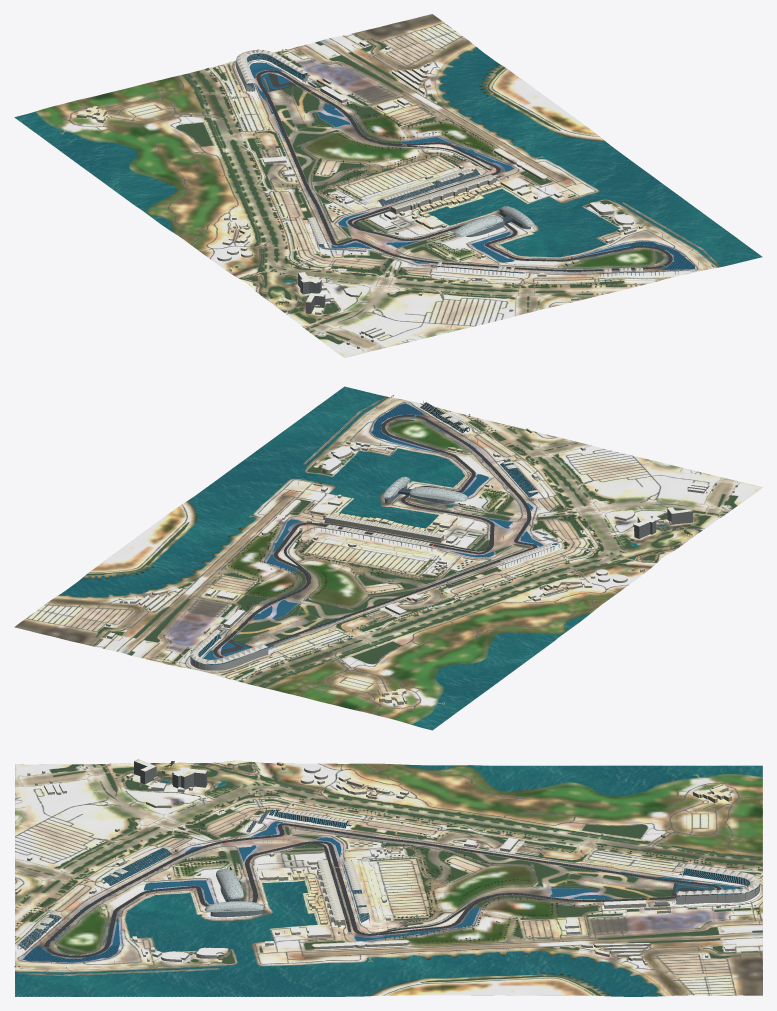
The model's file is yas-marina.glb.
3 renders of one model, top to bottom at view 1: azimuth 30°, elevation 25°; view 2: azimuth 150°, elevation 25°; view 3: azimuth 270°, elevation 25°, orthographic. The views are drawn at different scales.
Visible parts, largest first — view 1: YasMarina_Terrain, YasMarina_Permanent_Buildings, YasMarina_Source_Roofs, YasMarina_Raceway, YasMarina_Current_Turquoise_Runoffs, YasMarina_Grandstand_Structures, YasMarina_Vegetation, YasMarina_White_Membrane_Canopies, YasMarina_Textured_Blue_Seats, YasMarina_Catch_Fences, YasMarina_W_Hotel_Glass_Gridshell, YasMarina_Mapped_Barriers_And_Marina_Piers (+1 smaller); view 2: YasMarina_Terrain, YasMarina_Permanent_Buildings, YasMarina_Source_Roofs, YasMarina_Raceway, YasMarina_Current_Turquoise_Runoffs, YasMarina_Grandstand_Structures, YasMarina_Vegetation, YasMarina_White_Membrane_Canopies, YasMarina_Textured_Blue_Seats, YasMarina_Catch_Fences, YasMarina_W_Hotel_Glass_Gridshell, YasMarina_Mapped_Barriers_And_Marina_Piers (+1 smaller); view 3: YasMarina_Terrain, YasMarina_Permanent_Buildings, YasMarina_Source_Roofs, YasMarina_Raceway, YasMarina_Current_Turquoise_Runoffs, YasMarina_Grandstand_Structures, YasMarina_Textured_Blue_Seats, YasMarina_White_Membrane_Canopies, YasMarina_Vegetation, YasMarina_Catch_Fences, YasMarina_Mapped_Barriers_And_Marina_Piers, YasMarina_W_Hotel_Glass_Gridshell (+3 smaller).
Boxes of the visible parts, <box> form: YasMarina_Terrain: <box>14,14,762,357</box>; YasMarina_Permanent_Buildings: <box>76,42,643,348</box>; YasMarina_Source_Roofs: <box>77,40,642,346</box>; YasMarina_Raceway: <box>256,70,672,271</box>; YasMarina_Current_Turquoise_Runoffs: <box>249,62,694,272</box>; YasMarina_Grandstand_Structures: <box>236,53,682,276</box>; YasMarina_Vegetation: <box>206,49,714,305</box>; YasMarina_White_Membrane_Canopies: <box>236,49,643,272</box>; YasMarina_Textured_Blue_Seats: <box>236,53,682,273</box>; YasMarina_Catch_Fences: <box>249,40,692,274</box>; YasMarina_W_Hotel_Glass_Gridshell: <box>453,206,534,236</box>; YasMarina_Mapped_Barriers_And_Marina_Piers: <box>59,41,703,274</box>; YasMarina_Terrain: <box>14,386,762,730</box>; YasMarina_Permanent_Buildings: <box>106,428,737,704</box>; YasMarina_Source_Roofs: <box>106,428,737,701</box>; YasMarina_Raceway: <box>213,415,537,657</box>; YasMarina_Current_Turquoise_Runoffs: <box>203,403,543,664</box>; YasMarina_Grandstand_Structures: <box>190,401,559,670</box>; YasMarina_Vegetation: <box>163,395,692,679</box>; YasMarina_White_Membrane_Canopies: <box>190,413,553,663</box>; YasMarina_Textured_Blue_Seats: <box>190,402,557,664</box>; YasMarina_Catch_Fences: <box>64,403,564,656</box>; YasMarina_W_Hotel_Glass_Gridshell: <box>382,477,467,501</box>; YasMarina_Mapped_Barriers_And_Marina_Piers: <box>58,406,592,704</box>; YasMarina_Terrain: <box>15,760,762,996</box>; YasMarina_Permanent_Buildings: <box>15,761,735,965</box>; YasMarina_Source_Roofs: <box>15,759,734,963</box>; YasMarina_Raceway: <box>44,823,721,957</box>; YasMarina_Current_Turquoise_Runoffs: <box>23,821,743,962</box>; YasMarina_Grandstand_Structures: <box>17,809,759,950</box>; YasMarina_Textured_Blue_Seats: <box>18,809,759,949</box>; YasMarina_White_Membrane_Canopies: <box>35,808,759,929</box>; YasMarina_Vegetation: <box>14,761,759,967</box>; YasMarina_Catch_Fences: <box>22,814,743,992</box>; YasMarina_Mapped_Barriers_And_Marina_Piers: <box>24,774,741,975</box>; YasMarina_W_Hotel_Glass_Gridshell: <box>205,869,263,912</box>.
Size of the model in its own units: 1400 by 49.36 by 1918.
19 materials, 13 textured.
